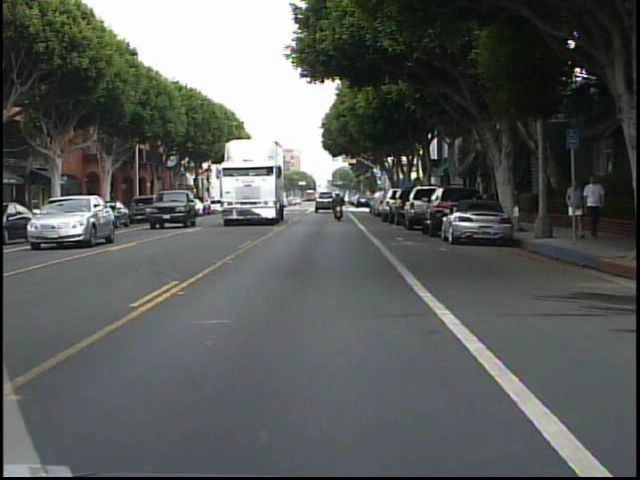person: (582, 171, 607, 238), (561, 175, 581, 237), (330, 190, 349, 221)
